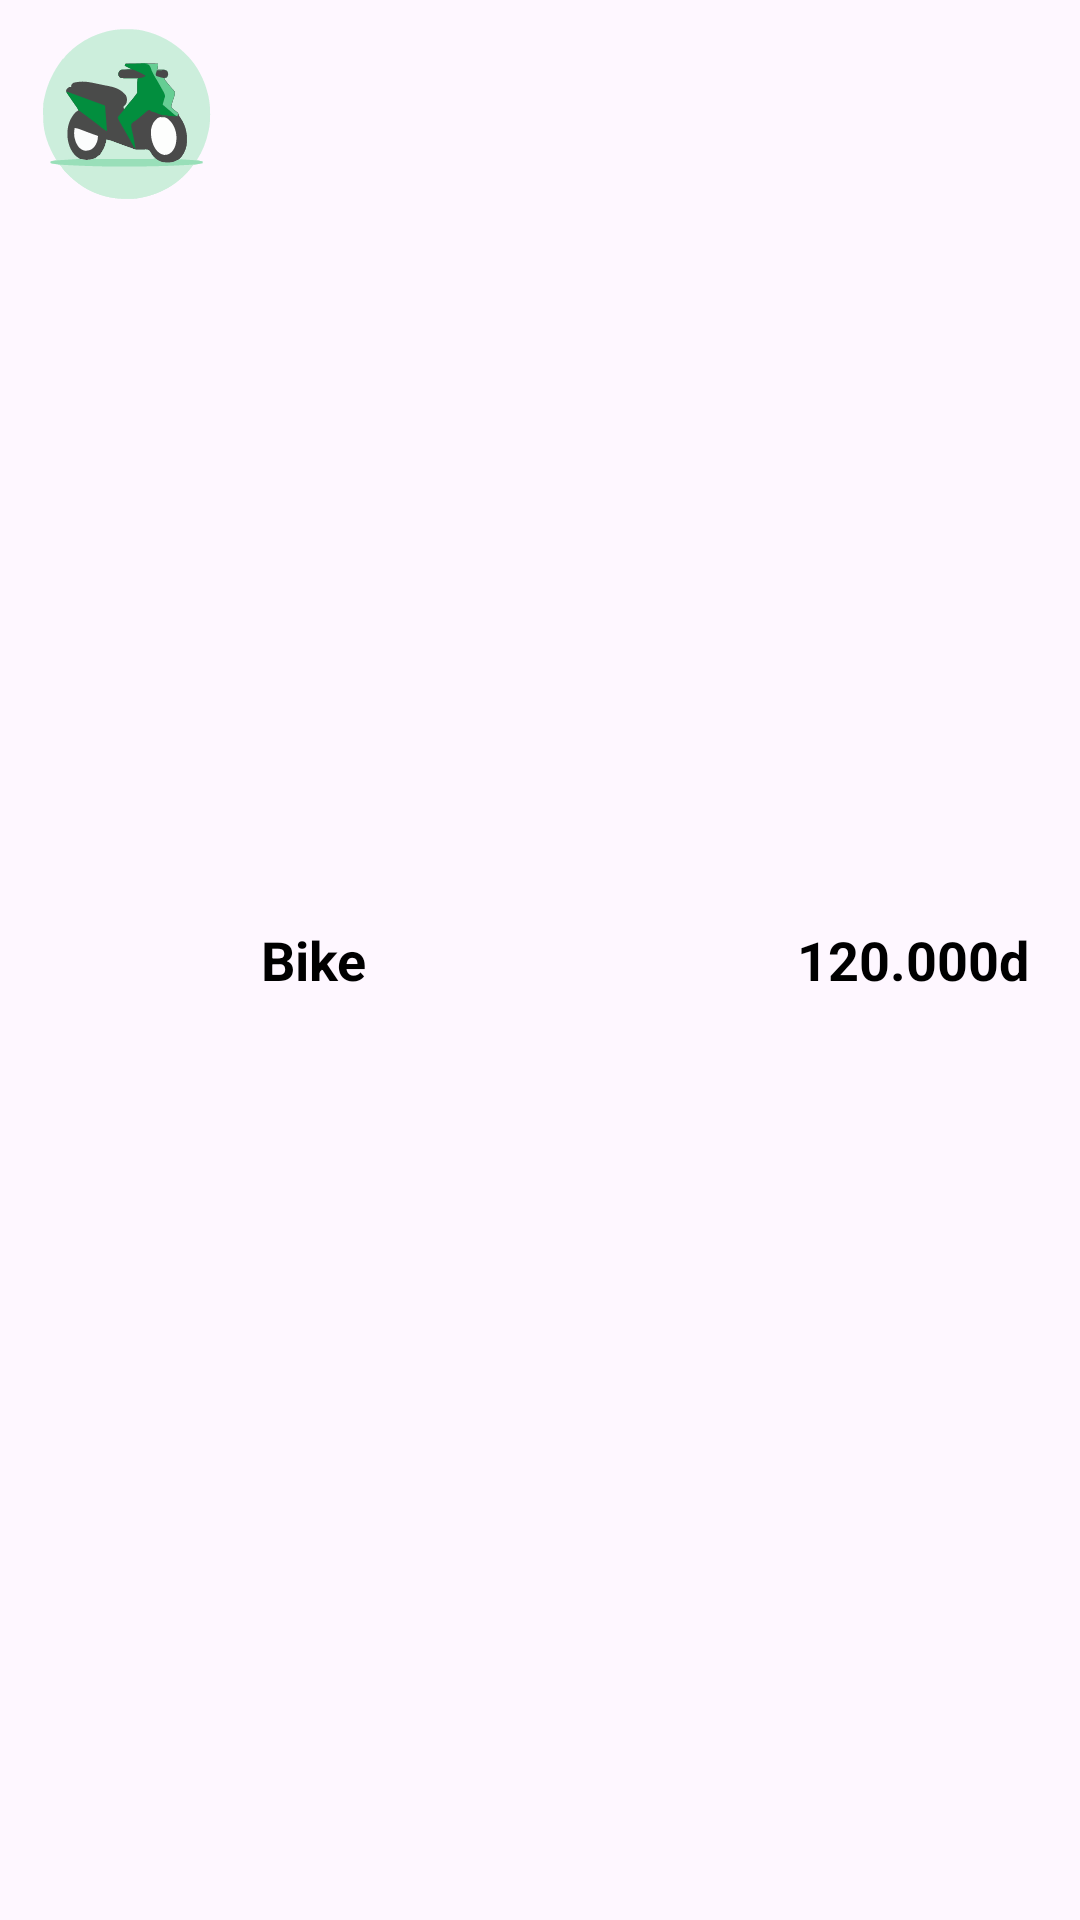

Locate icon controls on the screen. Image size 1080×1920, boxes as (x1, y1, x2, y2).
bike: (43, 29, 210, 199)
